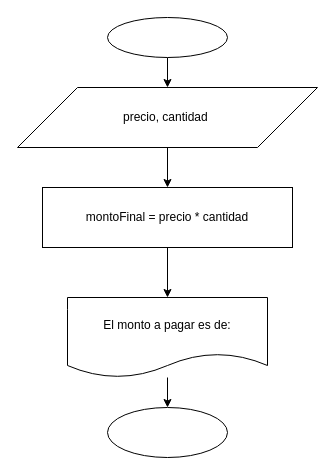
Some shapes in this 335 by 475 pixel diagram are drawn without their labels. The box of each missing label's shape, as (x1, y1, x2, y2) in pixels:
Fin: (106, 406, 228, 458)
Inicio: (106, 16, 228, 58)
